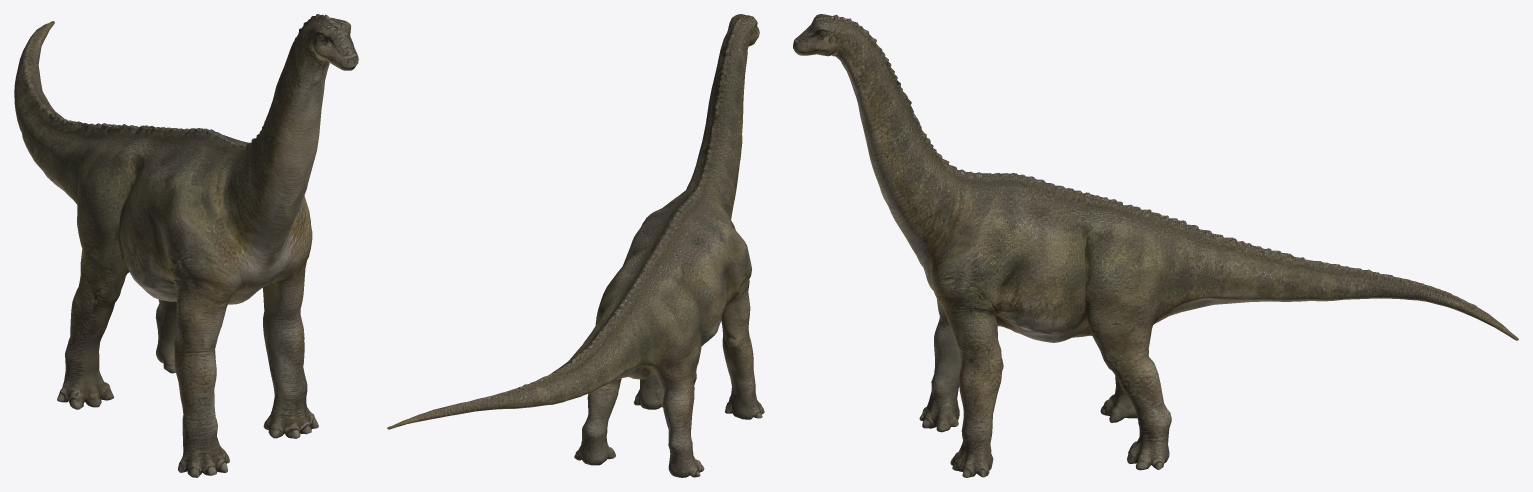
File: braquiosaurio.glb
3 views of the same model, side by side, from view 1: azimuth 30°, elevation 25°; view 2: azimuth 150°, elevation 25°; view 3: azimuth 270°, elevation 25° (orthographic). The views are drawn at different scales.
Parts seen in each view (by area): view 1: dino; view 2: dino; view 3: dino.
Part boxes in pixels (bbox=[...]): dino: bbox=[14, 14, 358, 477]; dino: bbox=[387, 14, 764, 477]; dino: bbox=[793, 14, 1518, 477].
Size of the model in its own units: 6.71 by 14.59 by 22.
1 material, 1 textured.
